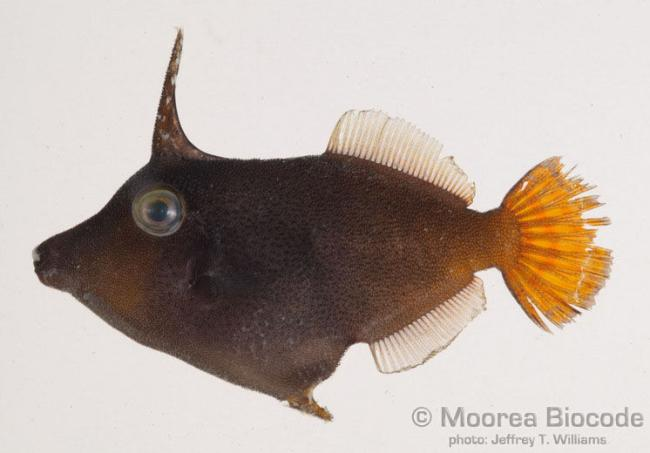fish: (31, 27, 615, 423)
